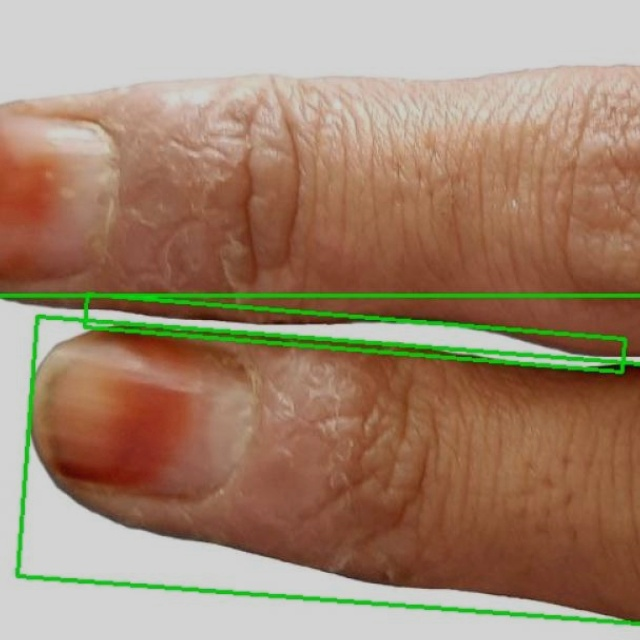Contact Dermatitis: (0, 295, 639, 639), (16, 316, 639, 625), (84, 295, 624, 372)
